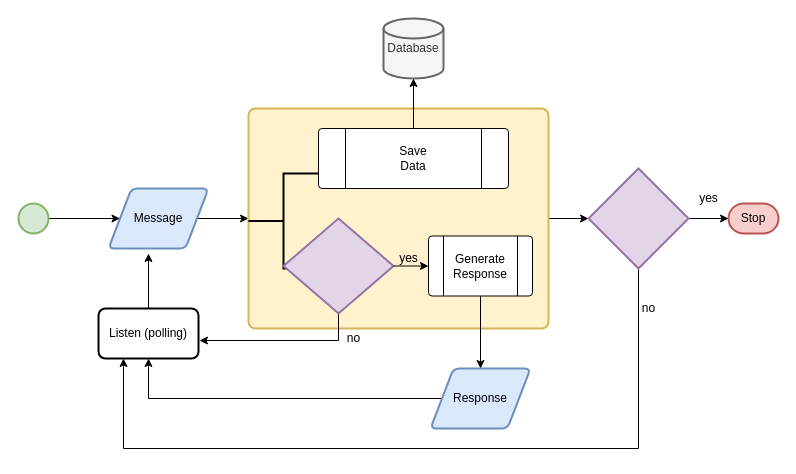
This 796x474 diagram has some shape labels left out. Here are the shapes that lost their labels. From the top down, the box of each, then its label:
(17, 202, 49, 234): Start
(587, 167, 689, 269): Terminate?
(282, 217, 394, 314): Should send a response?
